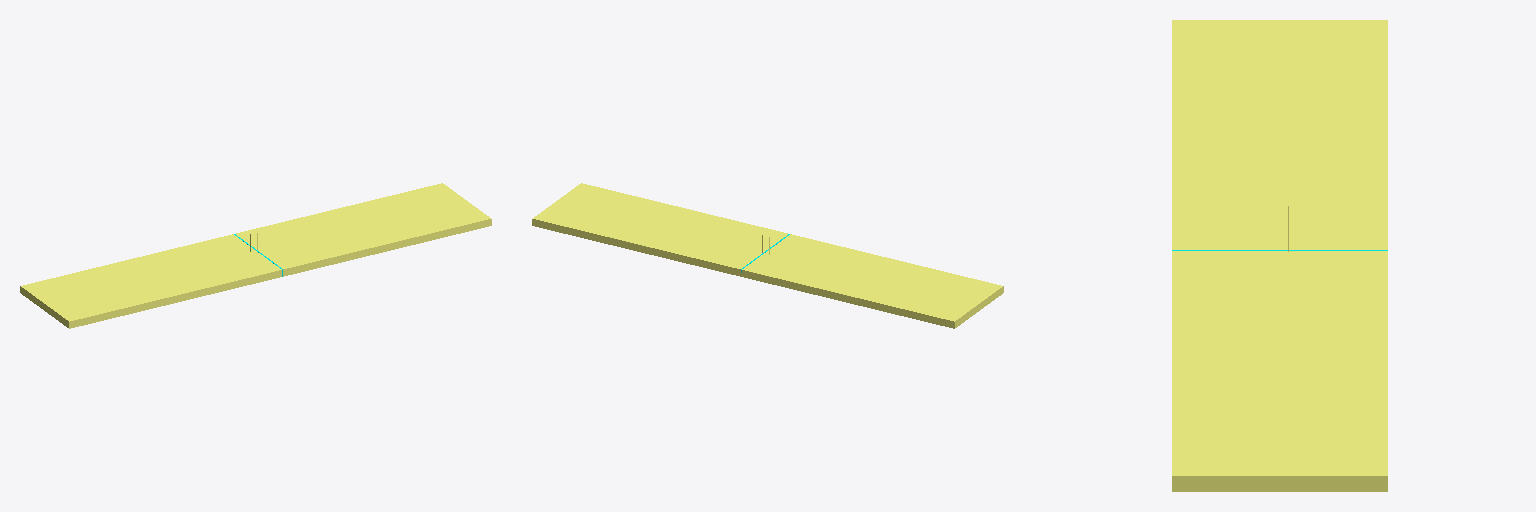
The robot description file, URDF, robot "ground_skeleton":
<?xml version="1.0"?>
<robot name="ground_skeleton">
    <link name="world" />
    <link name="ground_link">
        <inertial>
            <mass value="1.0" />
            <origin xyz="0 0 -1.368" rpy="0 0 0"/>
            <inertia ixx="1.0" ixy="0" ixz="0" iyy="1.0" iyz="0" izz="1.0" />
        </inertial>
        <visual>
            <origin xyz="0 0 -1.368" rpy="0 0 0" />
            <geometry>
                <box size="125 25 2.05" />
            </geometry>
            <material name="Grey">
                <color rgba ="1.0 1.0 0.55 1.0"/>
            </material>
        </visual>
        <collision group="default">
            <origin xyz="0 0 -1.368"  rpy="0 0 0"/>
            <geometry>
                <box size="125 25 2.05" />
            </geometry>
        </collision>
    </link>
    <joint name="ground_joint" type="fixed">
        <origin xyz="0 0 0" rpy="0 0 0" />
        <parent link="world" />
        <child link="ground_link" />
    </joint>

    <link name="ground_link2">
        <inertial>
            <mass value="1.0" />
            <origin xyz="0 0 -1.368" rpy="0 0 0"/>
            <inertia ixx="1.0" ixy="0" ixz="0" iyy="1.0" iyz="0" izz="1.0" />
        </inertial>
        <visual>
            <origin xyz="0.7 0 -1.343" rpy="0 0 0" />
            <geometry>
                <box size="0.4 25 2.05" />
            </geometry>
            <material name="G">
                <color rgba ="0.0 1.0 1.0 1.0"/>
            </material>
        </visual>
        <collision group="default">
            <origin xyz="0.7 0 -1.343"  rpy="0 0 0"/>
            <geometry>
                <box size="0.4 25 2.05" />
            </geometry>
        </collision>
    </link>
    <joint name="ground_joint2" type="fixed">
        <origin xyz="0 0 0" rpy="0 0 0" />
        <parent link="ground_link" />
        <child link="ground_link2" />
    </joint>

    <link name="pillar1">
        <inertial>
            <mass value="1.0" />
            <origin xyz="0 0 -0.368" rpy="0 0 0"/>
            <inertia ixx="1.0" ixy="0" ixz="0" iyy="1.0" iyz="0" izz="1.0" />
        </inertial>
        <visual>
            <origin xyz="-1 1 -0.368" rpy="0 0 0" />
            <geometry>
                <box size="0.1 0.1 10.0" />
            </geometry>
            <material name="Grey">
                <color rgba ="1.0 1.0 0.55 1.0"/>
            </material>
        </visual>
    </link>
    <joint name="pillar1joint" type="fixed">
        <origin xyz="0 0 0" rpy="0 0 0" />
        <parent link="ground_link" />
        <child link="pillar1" />
    </joint>

    <link name="pillar2">
        <inertial>
            <mass value="1.0" />
            <origin xyz="0 0 -0.368" rpy="0 0 0"/>
            <inertia ixx="1.0" ixy="0" ixz="0" iyy="1.0" iyz="0" izz="1.0" />
        </inertial>
        <visual>
            <origin xyz="0 1 -0.368" rpy="0 0 0" />
            <geometry>
                <box size="0.1 0.1 10.0" />
            </geometry>
            <material name="Grey">
                <color rgba ="1.0 1.0 0.55 1.0"/>
            </material>
        </visual>
    </link>
    <joint name="pillar2joint" type="fixed">
        <origin xyz="0 0 0" rpy="0 0 0" />
        <parent link="ground_link" />
        <child link="pillar2" />
    </joint>


    <link name="pillar3">
        <inertial>
            <mass value="1.0" />
            <origin xyz="0 0 -0.368" rpy="0 0 0"/>
            <inertia ixx="1.0" ixy="0" ixz="0" iyy="1.0" iyz="0" izz="1.0" />
        </inertial>
        <visual>
            <origin xyz="1 1 -0.368" rpy="0 0 0" />
            <geometry>
                <box size="0.1 0.1 10.0" />
            </geometry>
            <material name="Grey">
                <color rgba ="1.0 1.0 0.55 1.0"/>
            </material>
        </visual>
    </link>
    <joint name="pillar3joint" type="fixed">
        <origin xyz="0 0 0" rpy="0 0 0" />
        <parent link="ground_link" />
        <child link="pillar3" />
    </joint>

</robot>

--- Render facts (derived) ---
3 views of the same robot in one strip: view 1: azimuth 30°, elevation 25°; view 2: azimuth 150°, elevation 25°; view 3: azimuth 270°, elevation 25° (orthographic).
Robot: ground_skeleton — 6 links, 5 joints (5 fixed); root link world; default pose: every joint at zero.
Visible links, largest first — view 1: ground_link; view 2: ground_link; view 3: ground_link.
Link boxes in pixels (<box>): ground_link: <box>20,183,491,328</box>; ground_link: <box>532,183,1003,328</box>; ground_link: <box>1172,20,1387,491</box>.
Size in the robot's own frame: 125 by 25 by 10 metres.
Geometry: primitives only (box / cylinder / sphere), no mesh files.
